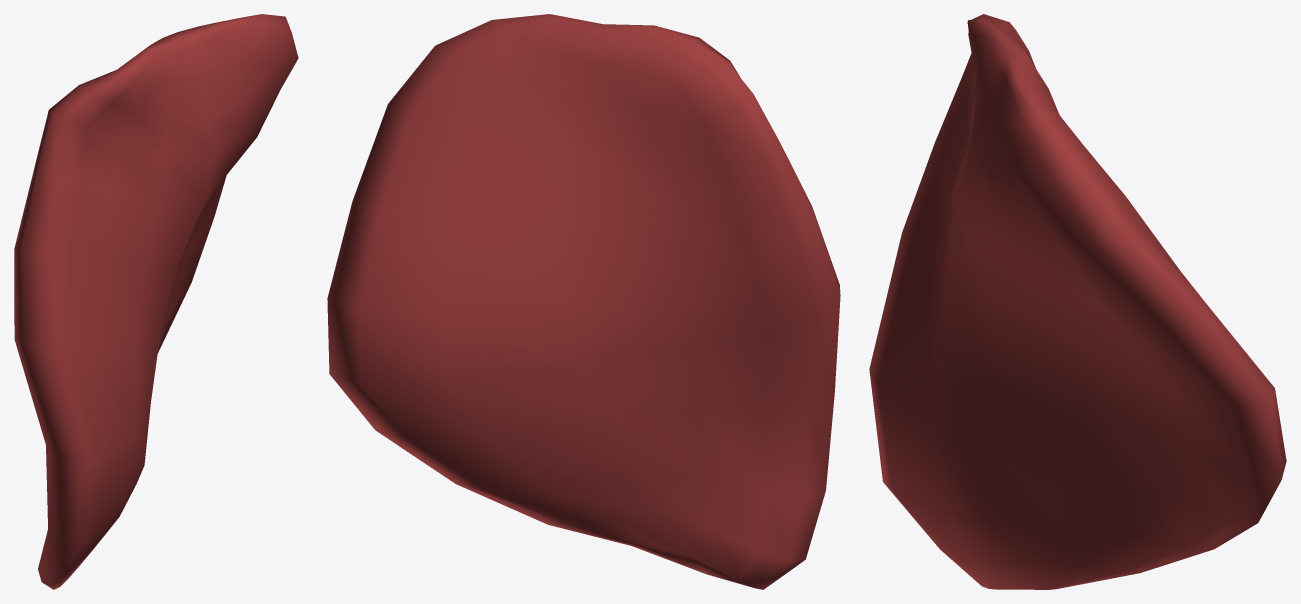
File: trochanteric-bursa-of-gluteus-medius-muscle-r.glb
3 views of the same model, side by side, from view 1: azimuth 30°, elevation 25°; view 2: azimuth 150°, elevation 25°; view 3: azimuth 270°, elevation 25° (orthographic). The views are drawn at different scales.
Parts seen in each view (by area): view 1: Trochanteric bursa of gluteus medius muscle.r; view 2: Trochanteric bursa of gluteus medius muscle.r; view 3: Trochanteric bursa of gluteus medius muscle.r.
Boxes of the visible parts, box(x1,y1,x2,y2) form: Trochanteric bursa of gluteus medius muscle.r: box(14, 14, 298, 589); Trochanteric bursa of gluteus medius muscle.r: box(327, 14, 840, 589); Trochanteric bursa of gluteus medius muscle.r: box(869, 14, 1286, 589).
Size of the model in its own units: 0.0161 by 0.0226 by 0.0139.
